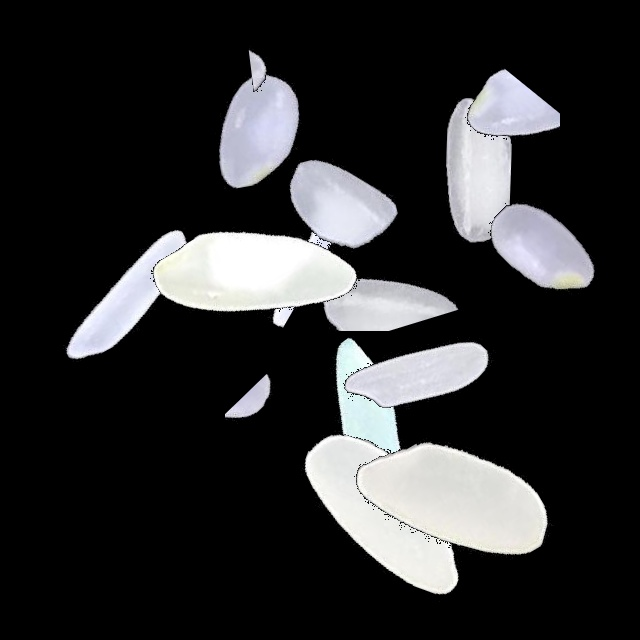Broken: (426, 152, 600, 402), (308, 90, 558, 245), (253, 193, 503, 331), (422, 22, 560, 272), (212, 94, 336, 344), (225, 308, 315, 558), (166, 44, 416, 120)
Full: (235, 313, 485, 563), (1, 173, 251, 423), (128, 152, 378, 402), (260, 387, 510, 637), (131, 3, 381, 253), (216, 75, 466, 325), (293, 248, 543, 498), (330, 377, 580, 627)
